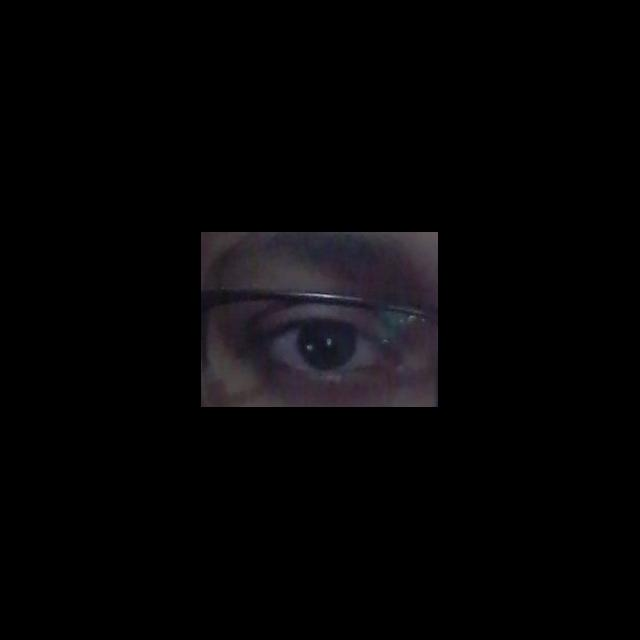eye: (270, 321, 384, 373)
iris: (296, 324, 357, 369)
